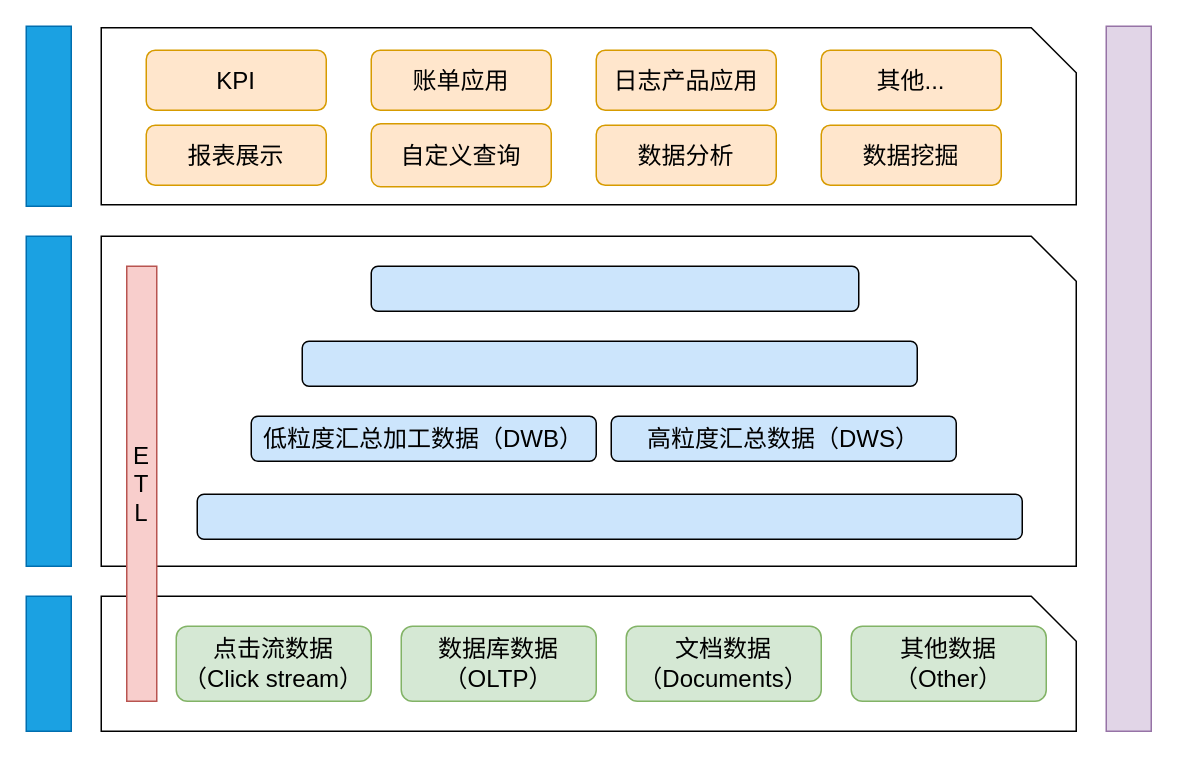
The diagram is 1178 pixels wide and 758 high, and some of its shapes have lost their labels. The shapes that lost their labels are listed below. From the top down, each one's box as (x1, y1, x2, y2) in pixels, then its label:
(25, 25, 71, 206): 数据 应用
(370, 265, 859, 311): 数据应用（ST）
(301, 340, 917, 386): 数据集市、宽表（DM）
(1105, 25, 1151, 731): 元数据管理 数据质量监控
(25, 235, 71, 566): 数据数仓
(196, 493, 1022, 539): 明细数据（DWD）
(25, 595, 71, 731): 源数据
